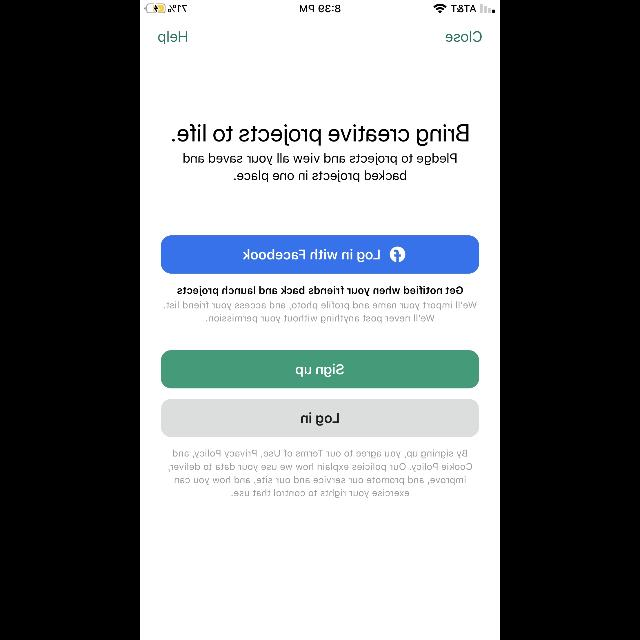text: (168, 450, 472, 498), (184, 153, 456, 183), (164, 301, 476, 323), (172, 124, 468, 146), (178, 286, 462, 296), (445, 30, 481, 42), (158, 31, 188, 45)
textbutton: (161, 235, 479, 273), (161, 350, 479, 388), (161, 399, 479, 437)
uppertaskbar: (140, 0, 500, 14)
